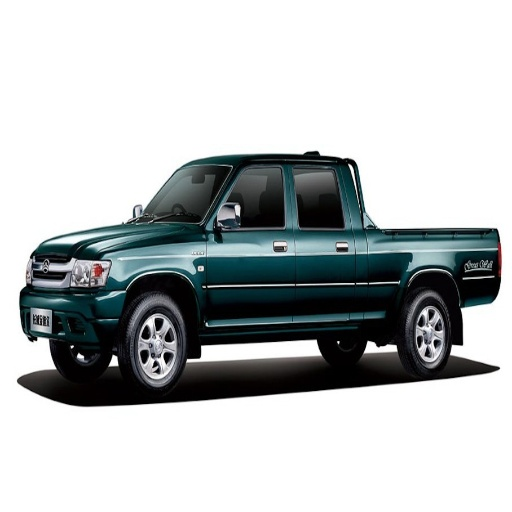front_bumper: (19, 253, 126, 360)
front_glass: (145, 162, 228, 221)
front_left_door: (204, 162, 296, 323)
trunk: (318, 234, 490, 319)
